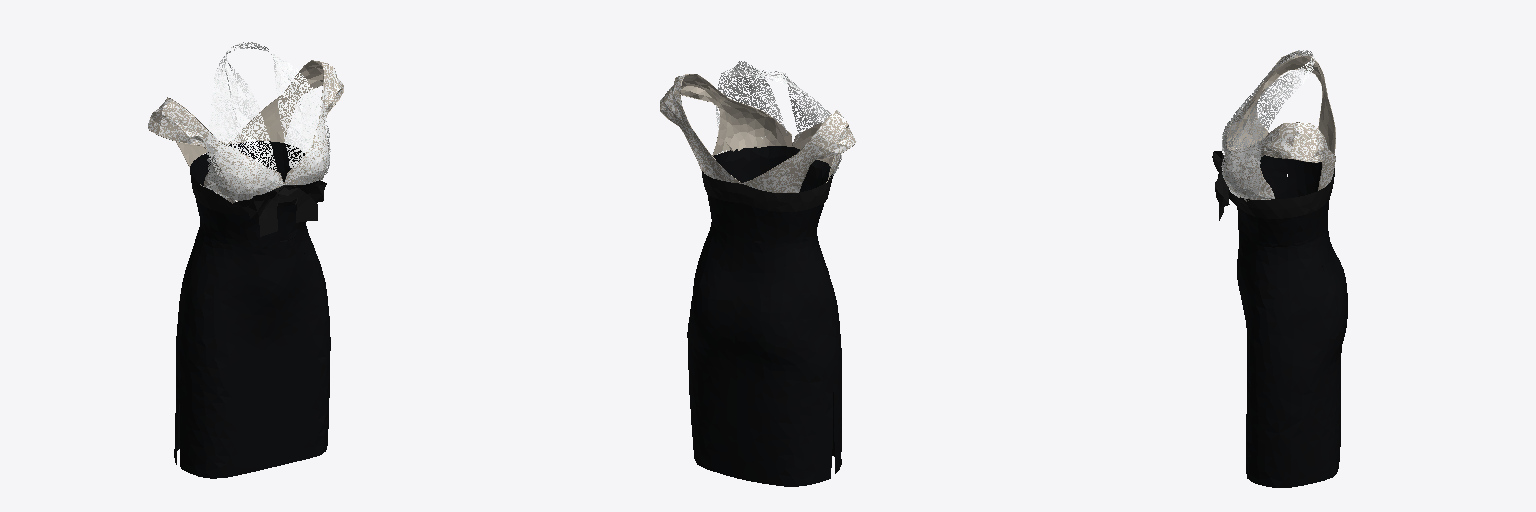
The picture shows the model from 3 angles: view 1: azimuth 30°, elevation 25°; view 2: azimuth 150°, elevation 25°; view 3: azimuth 270°, elevation 25°; orthographic projection.
Bounding box in the file's own units: 478 × 961 × 294.
Materials: 9 (2 with a texture image).